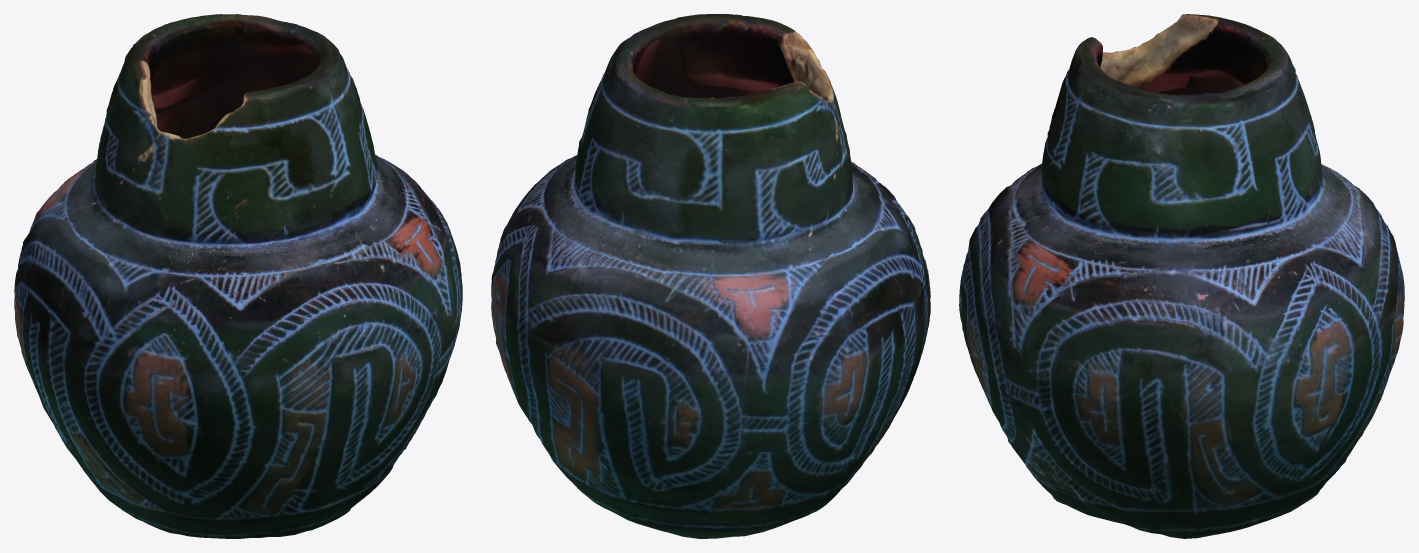
The model's file is vaso_marajoara.glb.
3 renders of one model, left to right at view 1: azimuth 30°, elevation 25°; view 2: azimuth 150°, elevation 25°; view 3: azimuth 270°, elevation 25°, orthographic.
Visible parts, largest first — view 1: vaso marajoara; view 2: vaso marajoara; view 3: vaso marajoara.
Part boxes in pixels (x1,y1,x2,y2): vaso marajoara: [14, 14, 462, 538]; vaso marajoara: [491, 14, 930, 538]; vaso marajoara: [959, 14, 1404, 538].
Bounding box in the file's own units: 0.6331 × 0.7005 × 0.6318.
1 material, 1 textured.
